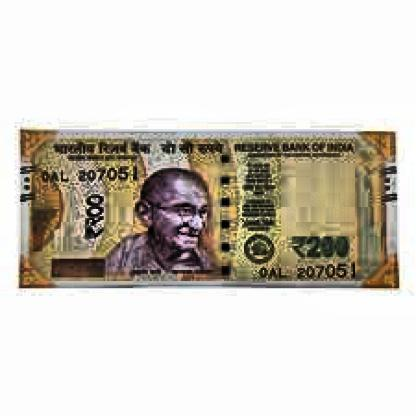Rs200: (285, 231, 360, 263)
